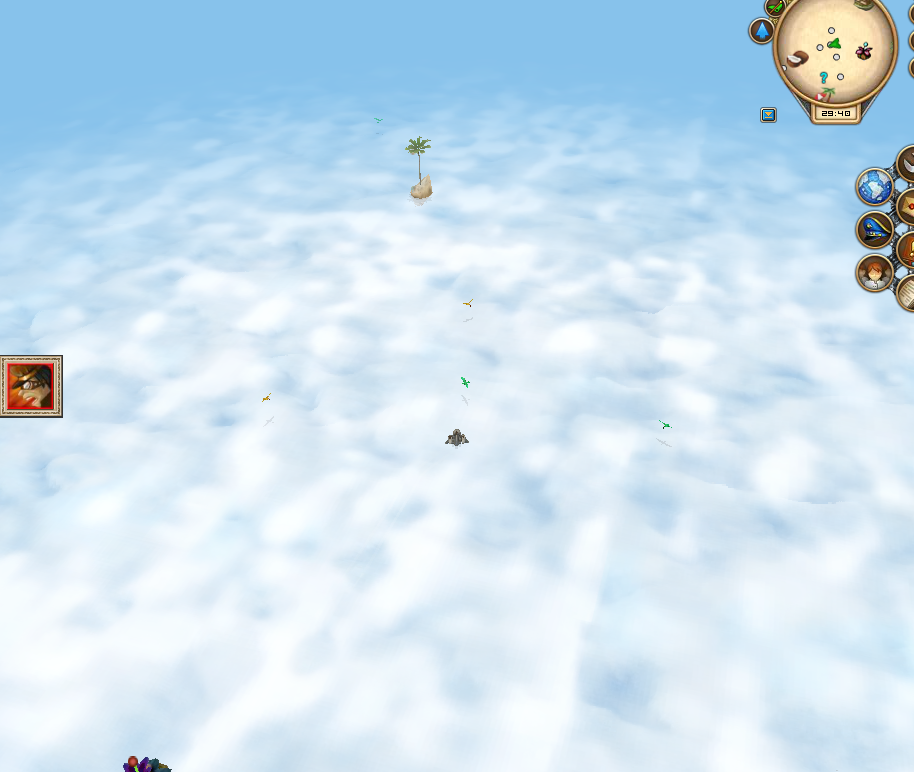palm: (400, 133, 439, 209)
